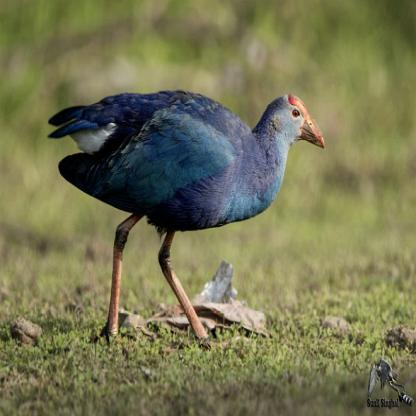Burung: (47, 90, 325, 343)
